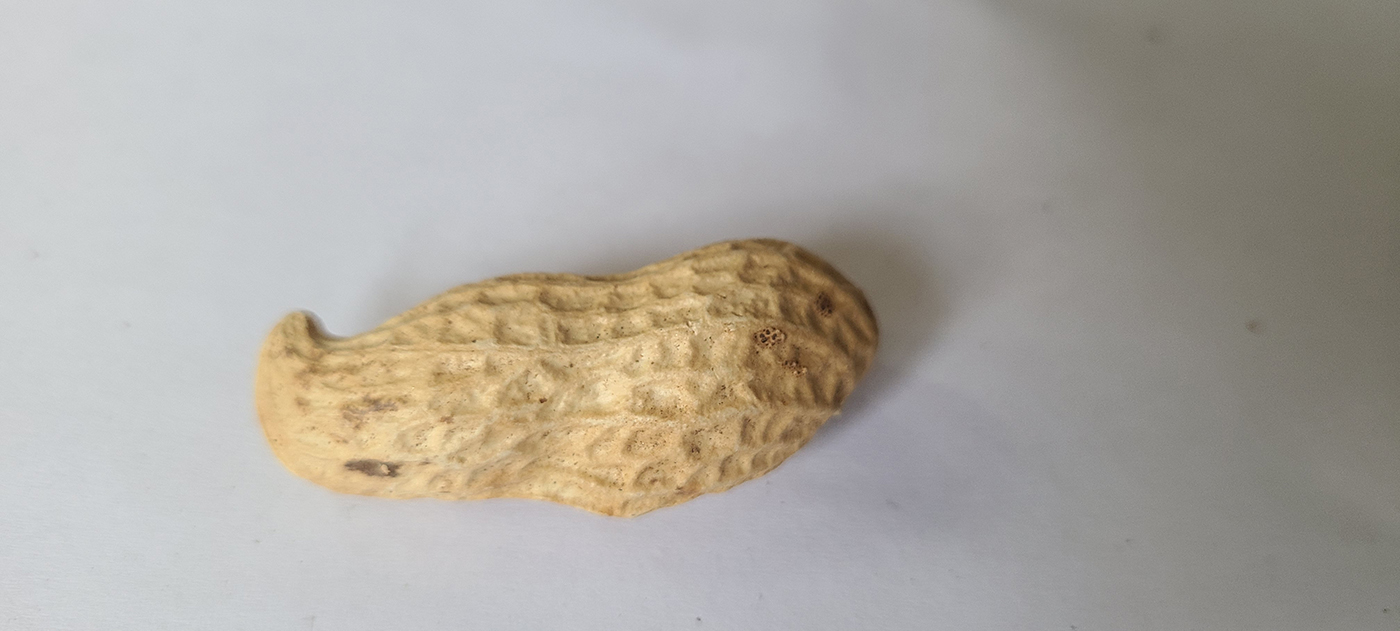h: (252, 236, 881, 521)
